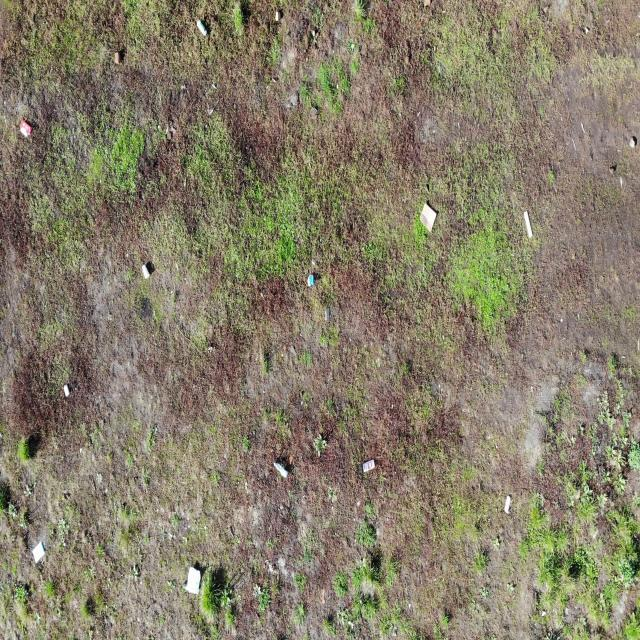rubbish: (418, 202, 438, 234), (183, 565, 202, 596), (30, 538, 46, 565), (19, 117, 34, 141), (273, 460, 289, 478), (523, 212, 534, 238), (195, 17, 208, 39), (360, 458, 377, 473), (142, 265, 152, 280), (305, 273, 316, 286), (504, 494, 511, 514), (62, 383, 70, 397)
